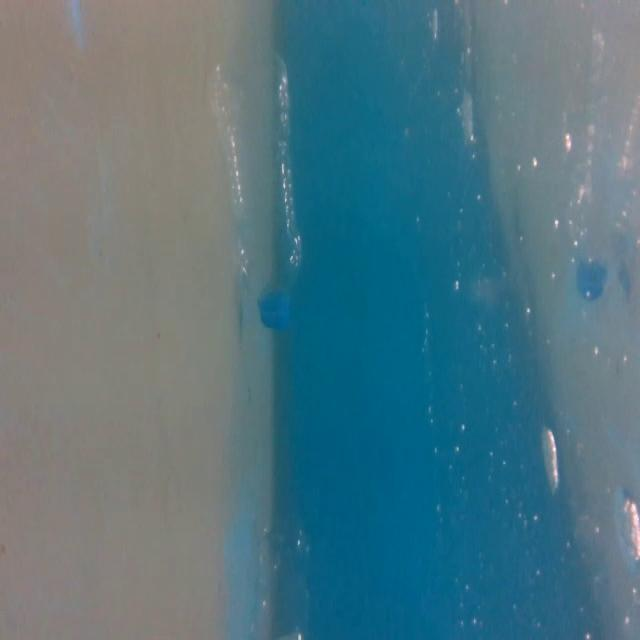plastic bottle: (204, 37, 316, 336)
